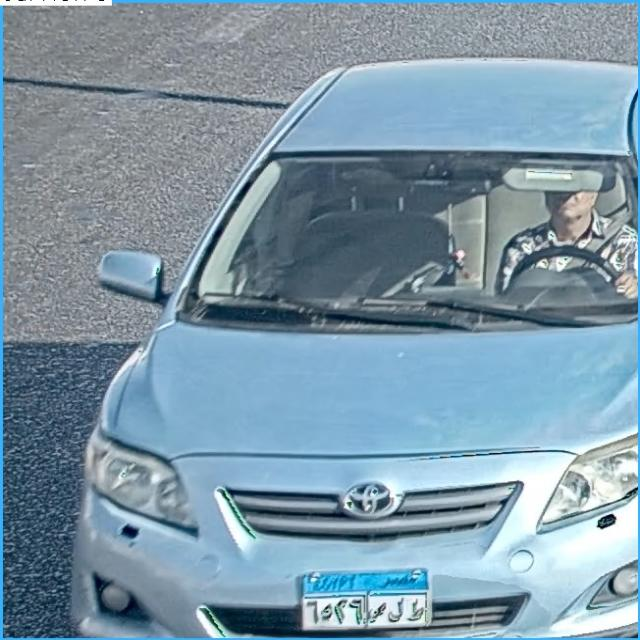windshield: (197, 148, 640, 316)
